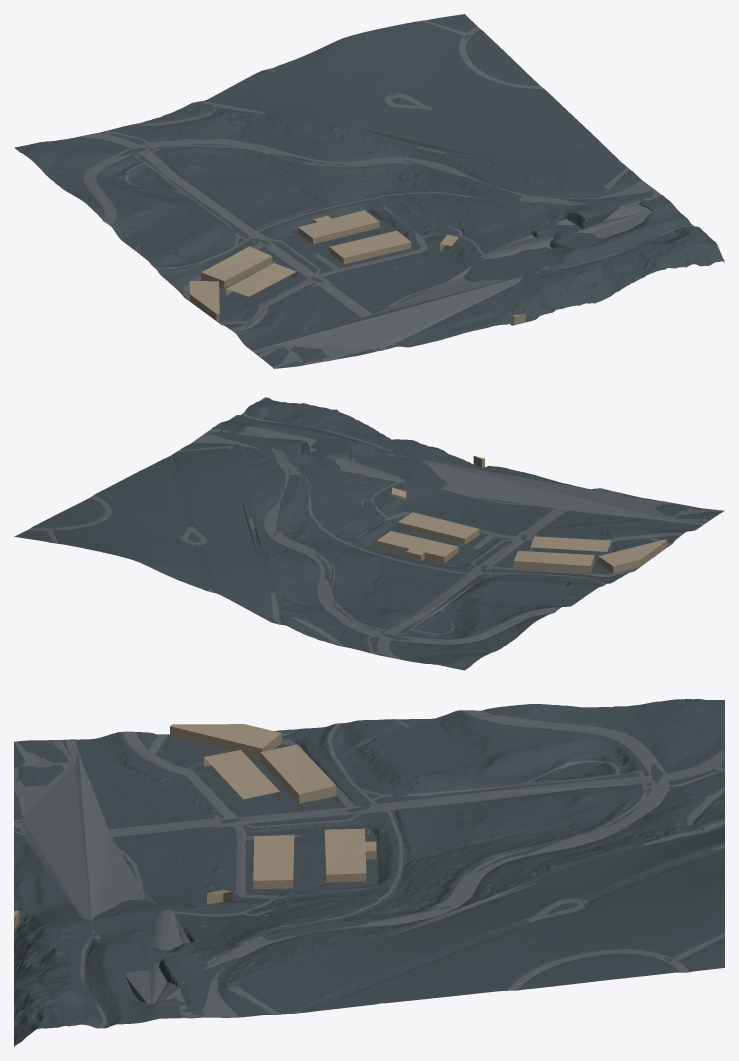
Rendered from epsg26910-1424-10895.lod0.glb.
3 renders of one model, top to bottom at view 1: azimuth 30°, elevation 25°; view 2: azimuth 150°, elevation 25°; view 3: azimuth 270°, elevation 25°, orthographic. The views are drawn at different scales.
Visible parts, largest first — view 1: epsg26910-1424-10895-lod0; view 2: epsg26910-1424-10895-lod0; view 3: epsg26910-1424-10895-lod0.
Boxes of the visible parts, <box> form: epsg26910-1424-10895-lod0: <box>14,14,724,368</box>; epsg26910-1424-10895-lod0: <box>14,397,724,670</box>; epsg26910-1424-10895-lod0: <box>14,699,724,1046</box>.
Size of the model in its own units: 384 by 61.66 by 384.
